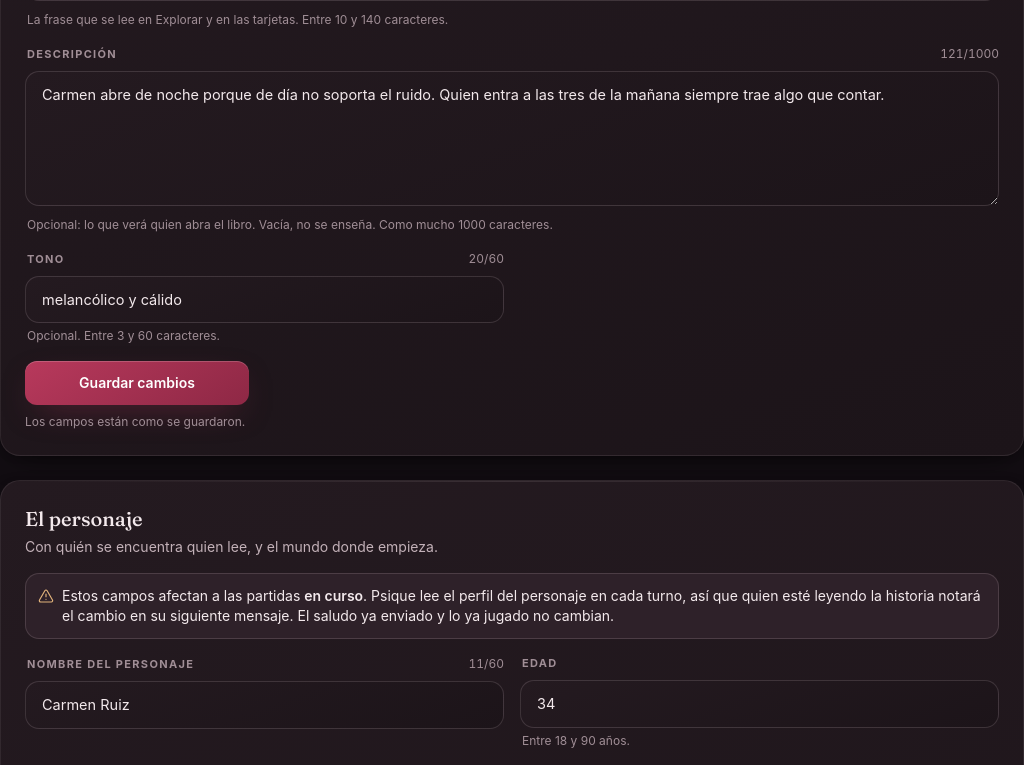
detalle: edición de la historia › sin cambios no manda nada y lo dice
The image size is (1024, 765).
(page scrolled)
Click the button "Guardar cambios" at (137, 383), box [25,361,249,405]
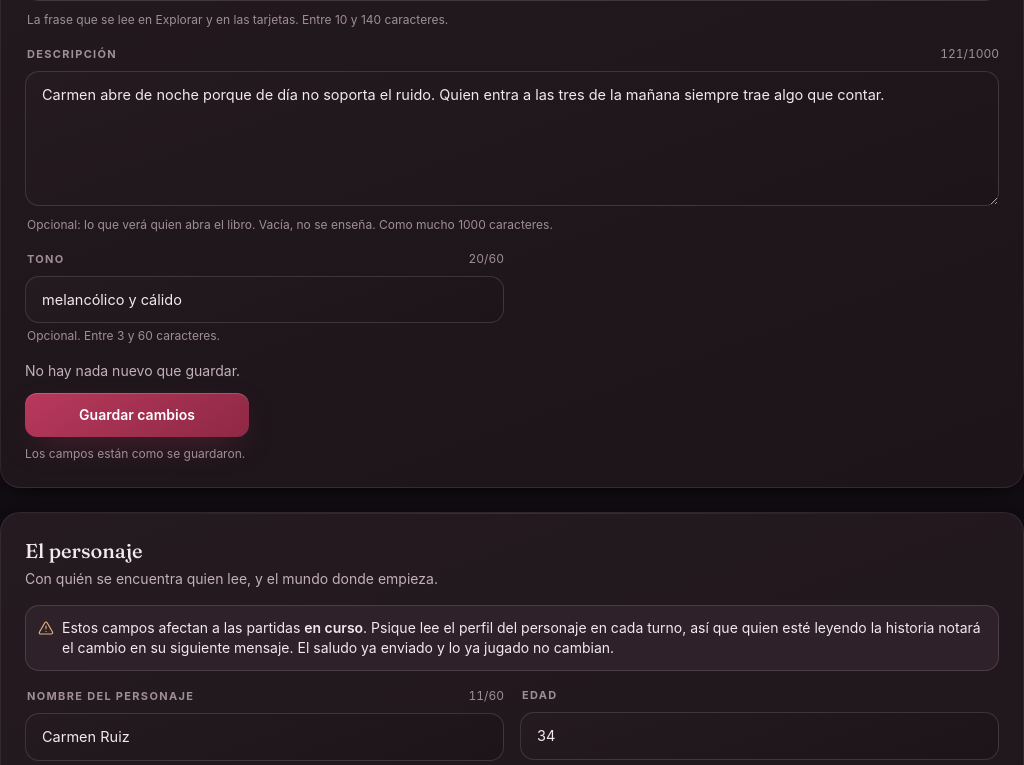
Check: the text "No hay nada nuevo que guardar." is shown, box [25,362,240,379]
